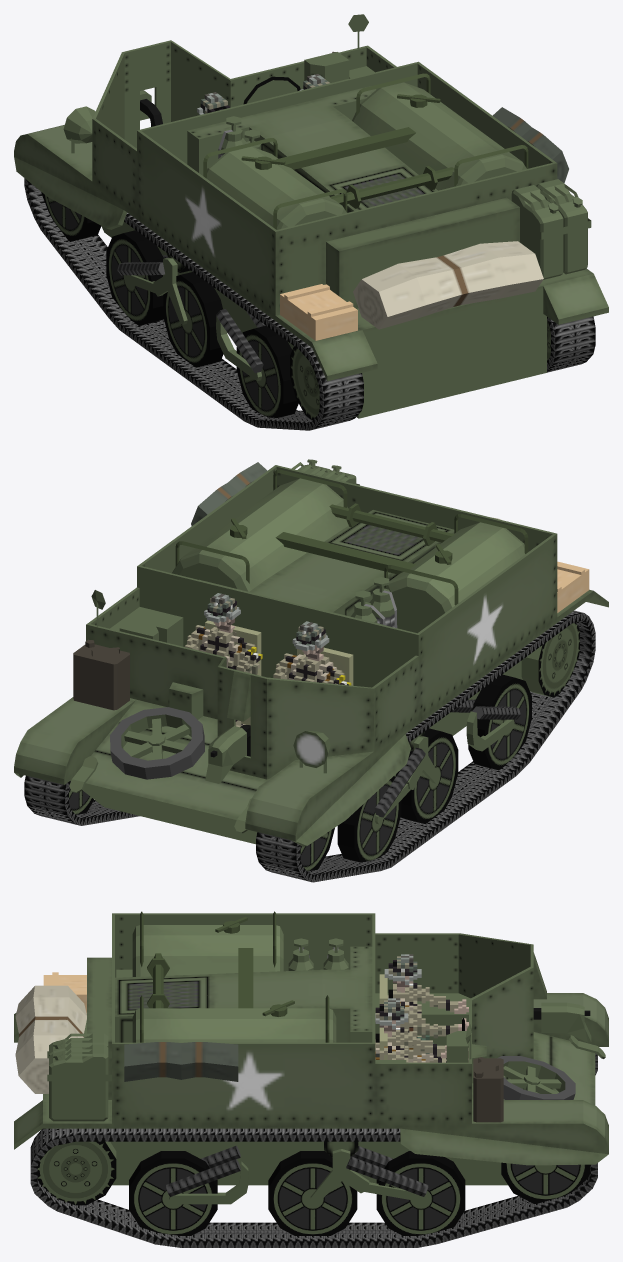
File: wasp.glb
The picture shows the model from 3 angles, top to bottom: view 1: azimuth 30°, elevation 25°; view 2: azimuth 150°, elevation 25°; view 3: azimuth 270°, elevation 25°; orthographic projection. The views are drawn at different scales.
Parts seen in each view (by area): view 1: 00_chassis_universal_carrier_chassis.mesh, 08_track_universal_carrier_track_1.mesh, 05_turret_wasp_tanks.mesh, 06_track_universal_carrier_track_1.mesh, 09_track_universal_carrier_track_2.mesh; view 2: 00_chassis_universal_carrier_chassis.mesh, 05_turret_wasp_tanks.mesh, 08_track_universal_carrier_track_1.mesh, crew_soldier_SLOT_00_DRIVER, 06_track_universal_carrier_track_1.mesh, 09_track_universal_carrier_track_2.mesh, crew_soldier_SLOT_01_GUNNER, 03_turret_wasp_gun.mesh; view 3: 00_chassis_universal_carrier_chassis.mesh, 06_track_universal_carrier_track_1.mesh, 05_turret_wasp_tanks.mesh, 07_track_universal_carrier_track_2.mesh, crew_soldier_SLOT_01_GUNNER, crew_soldier_SLOT_00_DRIVER, 03_turret_wasp_gun.mesh.
Part boxes in pixels (x1,y1,x2,y2): 00_chassis_universal_carrier_chassis.mesh: (14,14,608,418); 08_track_universal_carrier_track_1.mesh: (24,178,363,430); 05_turret_wasp_tanks.mesh: (203,73,528,229); 06_track_universal_carrier_track_1.mesh: (547,316,595,372); 09_track_universal_carrier_track_2.mesh: (290,346,319,419); 00_chassis_universal_carrier_chassis.mesh: (14,459,608,846); 05_turret_wasp_tanks.mesh: (172,469,528,633); 08_track_universal_carrier_track_1.mesh: (256,610,595,882); crew_soldier_SLOT_00_DRIVER: (184,593,262,727); 06_track_universal_carrier_track_1.mesh: (24,775,139,825); 09_track_universal_carrier_track_2.mesh: (521,622,579,697); crew_soldier_SLOT_01_GUNNER: (273,621,351,685); 03_turret_wasp_gun.mesh: (205,725,250,783); 00_chassis_universal_carrier_chassis.mesh: (14,913,608,1204); 06_track_universal_carrier_track_1.mesh: (30,1128,597,1247); 05_turret_wasp_tanks.mesh: (132,911,348,1042); 07_track_universal_carrier_track_2.mesh: (37,1141,116,1205); crew_soldier_SLOT_01_GUNNER: (384,954,468,1062); crew_soldier_SLOT_00_DRIVER: (375,998,446,1062); 03_turret_wasp_gun.mesh: (533,1002,591,1042).
Size of the model in its own units: 2.59 by 1.85 by 4.55.
Materials: 41 (5 with a texture image).
